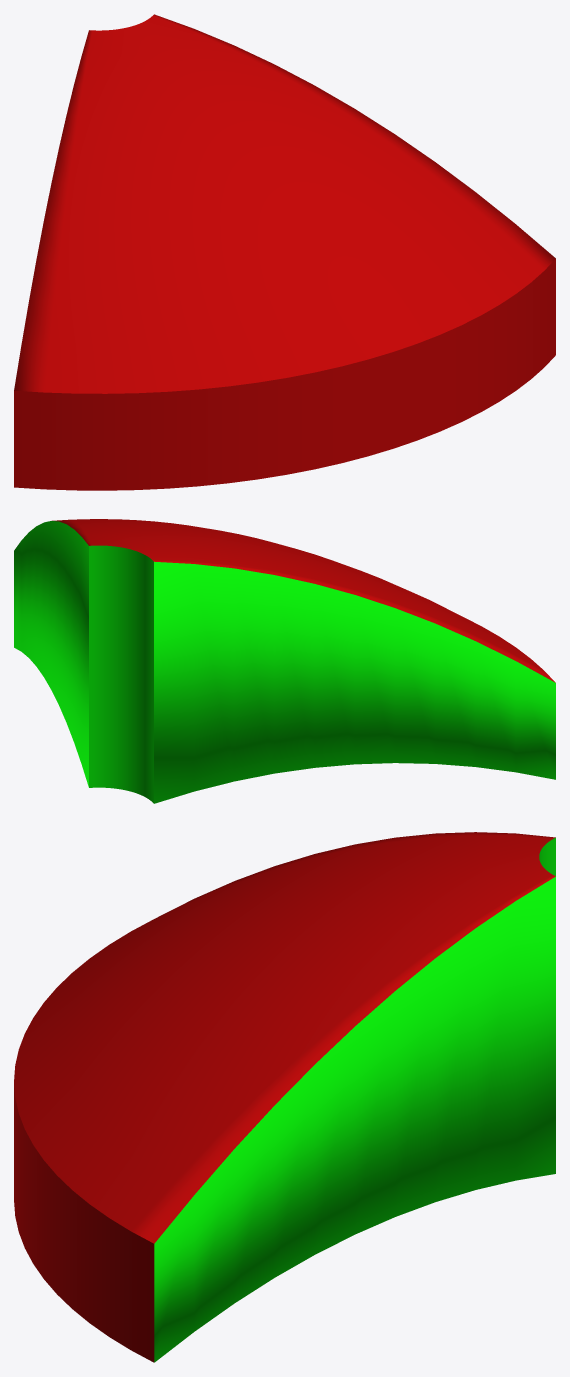
Rendered from TurkeyTail_Growth.glb.
3 views of the same model, one above another, from view 1: azimuth 30°, elevation 25°; view 2: azimuth 150°, elevation 25°; view 3: azimuth 270°, elevation 25° (orthographic). The views are drawn at different scales.
Parts seen in each view (by area): view 1: TurkeyTail; view 2: TurkeyTail; view 3: TurkeyTail.
Boxes of the visible parts, left/top/right/bottom form: TurkeyTail: left=14, top=14, right=555, bottom=490; TurkeyTail: left=14, top=519, right=555, bottom=803; TurkeyTail: left=14, top=832, right=555, bottom=1362.
Bounding box in the file's own units: 0.00515 × 0.00254 × 0.00363.
